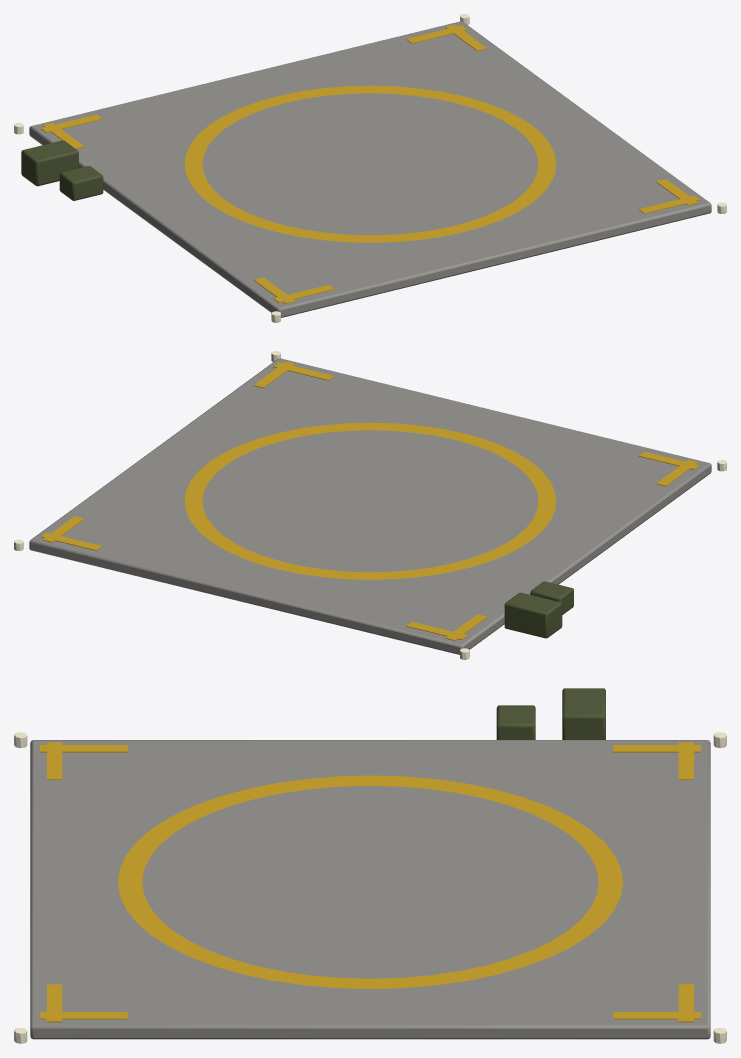
File: Base_LaunchPad.fbx
3 views of the same model, one above another, from view 1: azimuth 30°, elevation 25°; view 2: azimuth 150°, elevation 25°; view 3: azimuth 270°, elevation 25° (orthographic). The views are drawn at different scales.
Visible parts, largest first — view 1: Base_LaunchPad_Mesh; view 2: Base_LaunchPad_Mesh; view 3: Base_LaunchPad_Mesh.
Part boxes in pixels (box(x1,y1,x2,y2)): Base_LaunchPad_Mesh: box(14, 14, 726, 322); Base_LaunchPad_Mesh: box(14, 351, 726, 659); Base_LaunchPad_Mesh: box(14, 688, 726, 1043).
Size of the model in its own units: 7.92 by 0.4 by 7.34.
